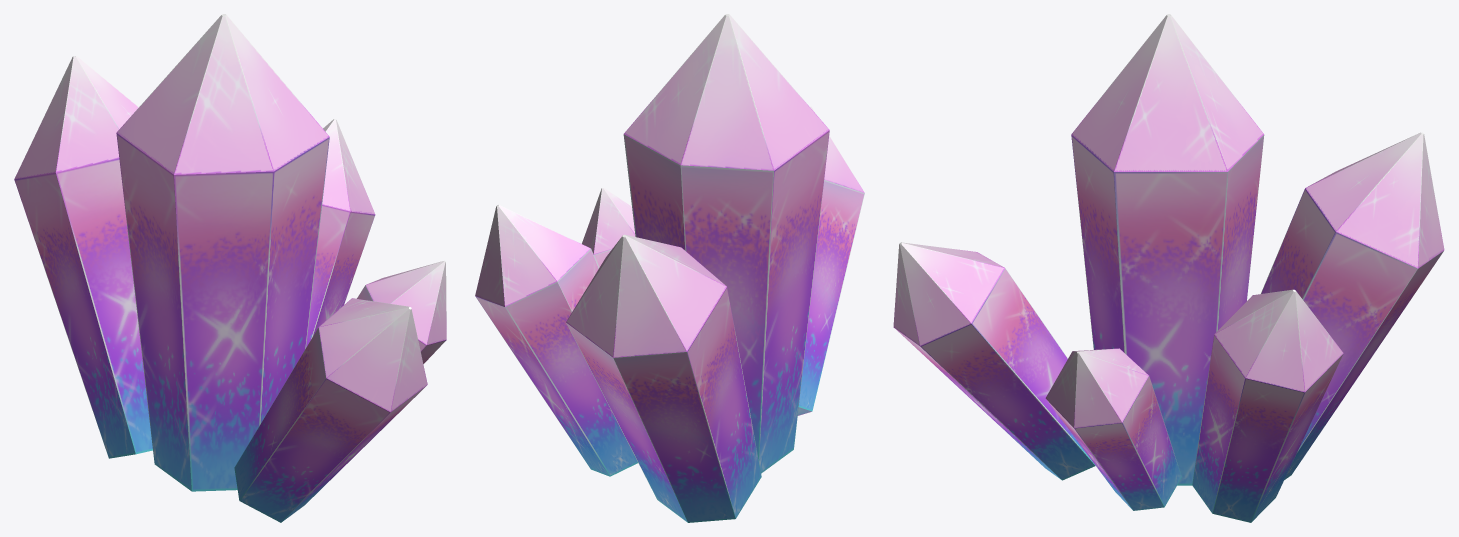
Rendered from newCluster.fbx.
3 renders of one model, left to right at view 1: azimuth 30°, elevation 25°; view 2: azimuth 150°, elevation 25°; view 3: azimuth 270°, elevation 25°, orthographic. The views are drawn at different scales.
Visible parts, largest first — view 1: pCube24; view 2: pCube24; view 3: pCube24.
Part boxes in pixels (x1=…): pCube24: x1=14, y1=14, x2=446, y2=522; pCube24: x1=475, y1=14, x2=864, y2=522; pCube24: x1=893, y1=14, x2=1444, y2=522.
Size of the model in its own units: 3.53 by 5.81 by 6.16.
1 material, 1 textured.
